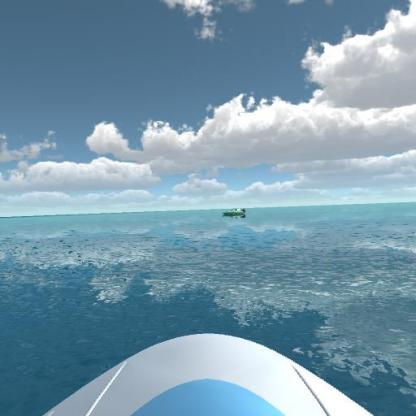usv0: (220, 203, 250, 221)
